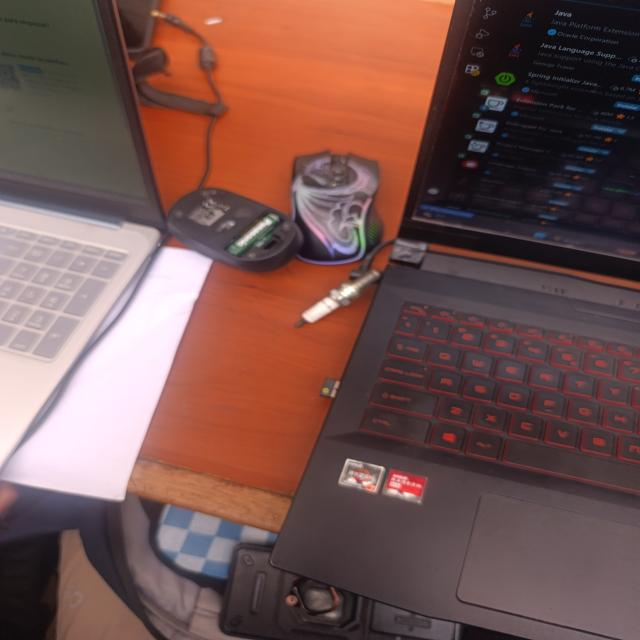Mause: (167, 188, 301, 272), (291, 151, 379, 263)
bujia: (295, 270, 381, 327)
